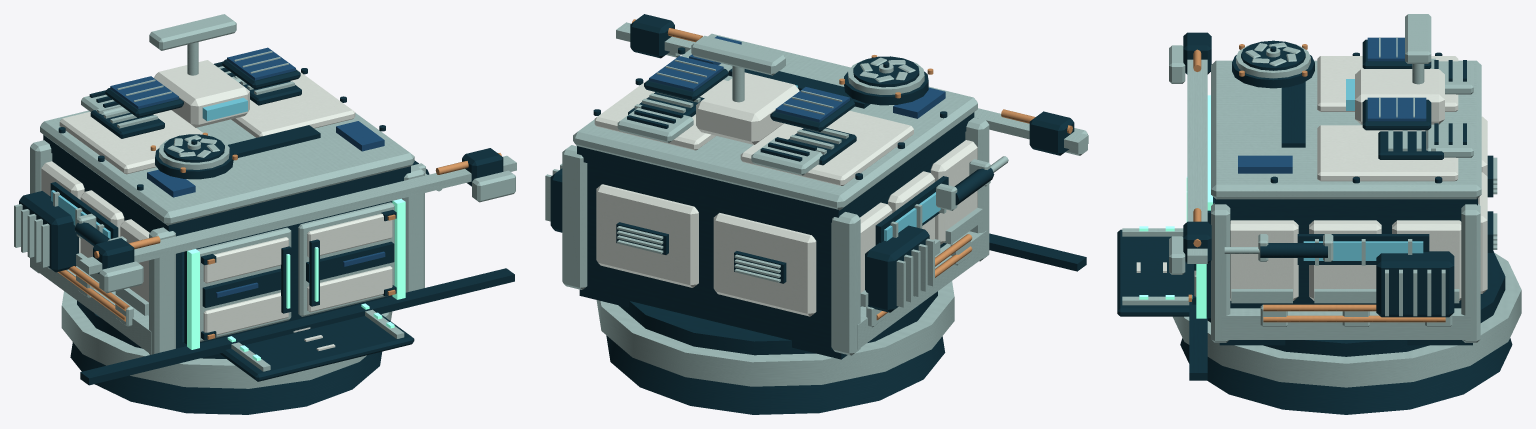
The model's file is interceptor.glb.
3 views of the same model, side by side, from view 1: azimuth 30°, elevation 25°; view 2: azimuth 150°, elevation 25°; view 3: azimuth 270°, elevation 25° (orthographic). The views are drawn at different scales.
Parts seen in each view (by area): view 1: _MeshInstance3D_398, RightDoor, LeftDoor, ProductionCoolingRotor; view 2: _MeshInstance3D_398, ProductionCoolingRotor; view 3: _MeshInstance3D_398, ProductionCoolingRotor, RightDoor.
Part boxes in pixels (box(x1,y1,x2,y2)): _MeshInstance3D_398: box(14, 14, 516, 414); RightDoor: box(293, 201, 396, 320); LeftDoor: box(184, 225, 293, 344); ProductionCoolingRotor: box(167, 135, 219, 157); _MeshInstance3D_398: box(545, 14, 1088, 414); ProductionCoolingRotor: box(859, 57, 915, 82); _MeshInstance3D_398: box(1117, 14, 1521, 414); ProductionCoolingRotor: box(1245, 42, 1300, 66); RightDoor: box(1186, 191, 1214, 318).
Size of the model in its own units: 0.512 by 0.34 by 0.399.
Materials: 2 (1 with a texture image).
